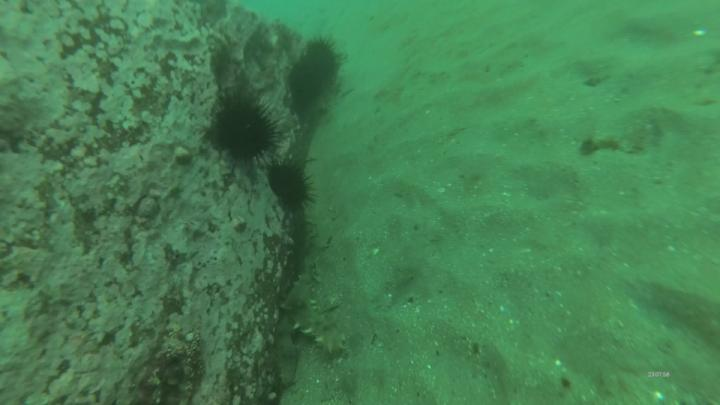echinus: (210, 94, 279, 165), (281, 51, 328, 112), (300, 35, 347, 90), (270, 161, 311, 211)
holothurian: (280, 287, 352, 358)
